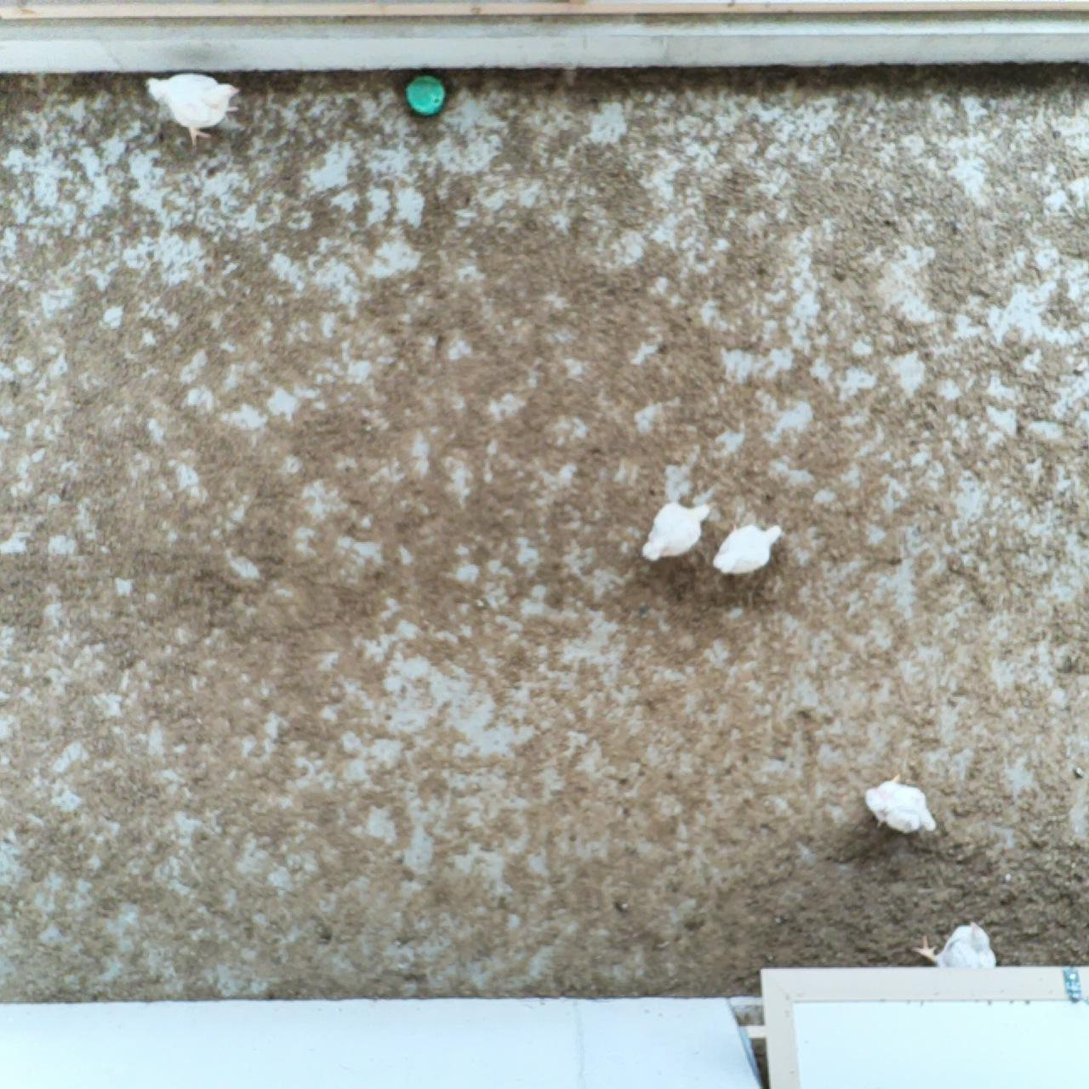chicken: (140, 70, 245, 148), (639, 497, 715, 569), (909, 917, 1000, 974), (861, 771, 939, 836), (708, 519, 791, 578)
